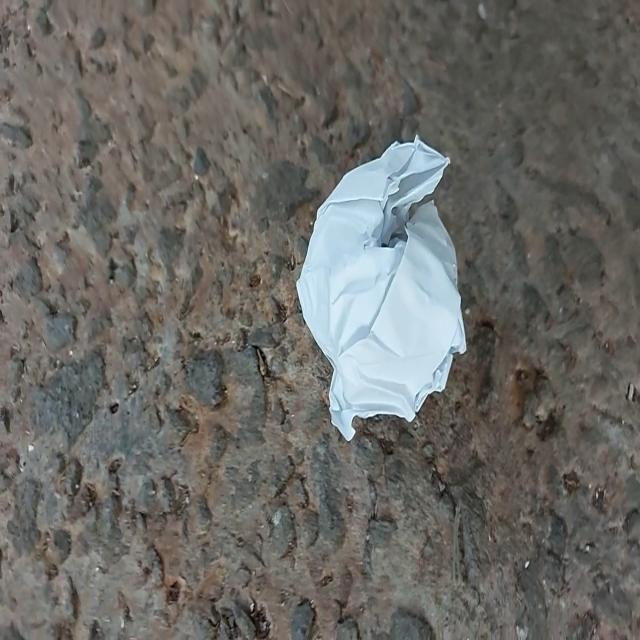Paper: (275, 113, 485, 461)
